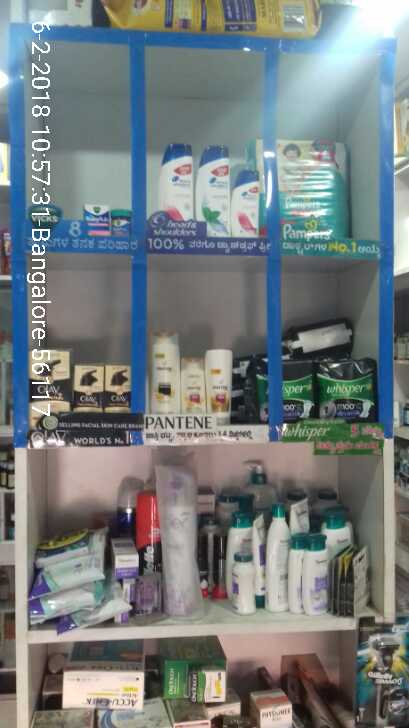beauty: (196, 142, 232, 236), (158, 140, 194, 227), (152, 327, 179, 420), (204, 346, 233, 423), (74, 362, 108, 423), (231, 167, 260, 235), (182, 356, 206, 421), (104, 362, 129, 421)
pharmacy: (277, 135, 356, 238), (317, 356, 378, 423), (87, 202, 109, 239), (109, 208, 131, 239)
